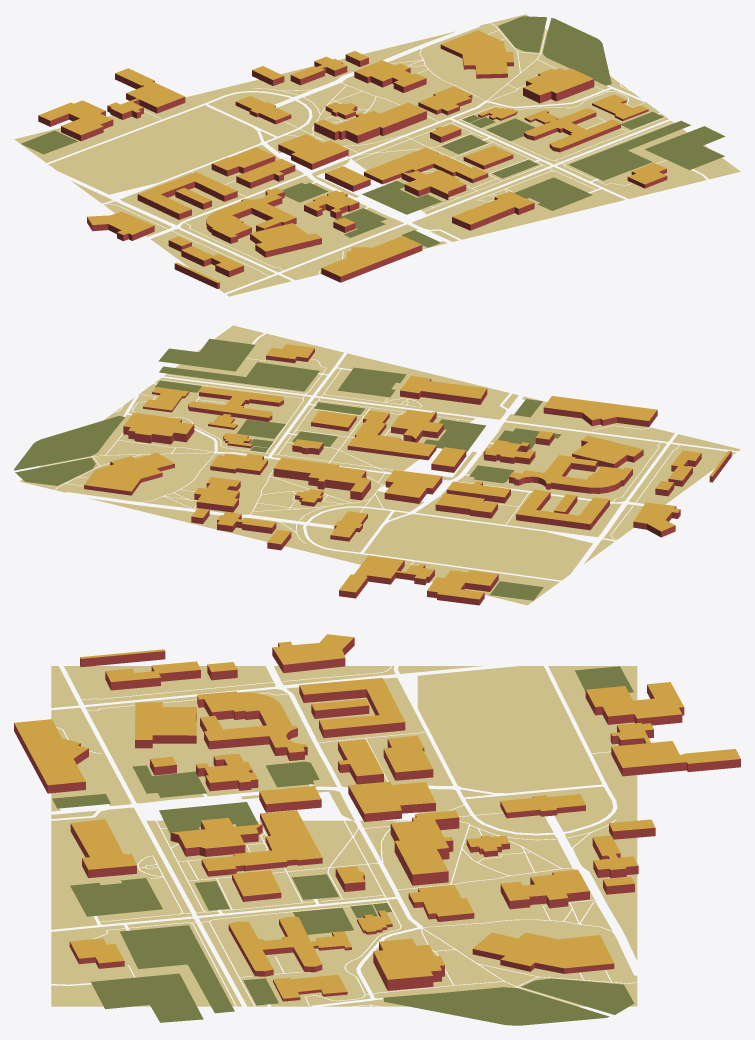
Rendered from nmsu_trimmed_osm.dae.
3 renders of one model, top to bottom at view 1: azimuth 30°, elevation 25°; view 2: azimuth 150°, elevation 25°; view 3: azimuth 270°, elevation 25°, orthographic. The views are drawn at different scales.
Visible parts, largest first — view 1: SurfaceArea821, SurfaceArea820, SurfaceArea819, SurfaceArea822, SurfaceArea823, SurfaceParking809, Building_Branson_Hall_Library, Building_Milton_Hall, Building_Clinton_P_Anderson_Hall, SurfaceParking806, Building_Chemistry_and_Biochemistry_Building, Building_Science_Hall (+31 smaller); view 2: SurfaceArea821, SurfaceArea820, SurfaceArea819, SurfaceArea822, SurfaceParking809, SurfaceArea823, Building_Milton_Hall, Building_Branson_Hall_Library, Building_Clinton_P_Anderson_Hall, SurfaceParking806, Building_Science_Hall, Building_Chemistry_and_Biochemistry_Building (+31 smaller); view 3: SurfaceArea821, SurfaceArea820, SurfaceArea819, SurfaceArea822, SurfaceArea823, SurfaceParking809, Building_Milton_Hall, Building_Chemistry_and_Biochemistry_Building, SurfaceParking806, Building_Science_Hall, Building_Branson_Hall_Library, Building_Jett_Hall (+37 smaller).
Boxes of the visible parts, <box> form: SurfaceArea821: <box>331,94,693,239</box>; SurfaceArea820: <box>14,82,326,198</box>; SurfaceArea819: <box>95,154,459,296</box>; SurfaceArea822: <box>247,26,542,141</box>; SurfaceArea823: <box>574,76,740,182</box>; SurfaceParking809: <box>542,18,611,85</box>; Building_Branson_Hall_Library: <box>314,102,426,143</box>; Building_Milton_Hall: <box>440,30,513,78</box>; Building_Clinton_P_Anderson_Hall: <box>321,236,422,282</box>; SurfaceParking806: <box>568,120,690,180</box>; Building_Chemistry_and_Biochemistry_Building: <box>107,68,185,119</box>; Building_Science_Hall: <box>364,147,488,184</box>; SurfaceArea821: <box>170,336,509,490</box>; SurfaceArea820: <box>297,491,606,605</box>; SurfaceArea819: <box>429,393,740,546</box>; SurfaceArea822: <box>67,441,376,548</box>; SurfaceParking809: <box>14,416,124,470</box>; SurfaceArea823: <box>104,325,278,428</box>; Building_Milton_Hall: <box>84,452,174,495</box>; Building_Branson_Hall_Library: <box>273,457,370,500</box>; Building_Clinton_P_Anderson_Hall: <box>543,396,657,426</box>; SurfaceParking806: <box>159,362,319,391</box>; Building_Science_Hall: <box>347,410,436,460</box>; Building_Chemistry_and_Biochemistry_Building: <box>339,555,434,598</box>; SurfaceArea821: <box>51,820,417,975</box>; SurfaceArea820: <box>417,666,637,820</box>; SurfaceArea819: <box>51,666,417,820</box>; SurfaceArea822: <box>417,820,637,975</box>; SurfaceArea823: <box>51,975,417,1006</box>; SurfaceParking809: <box>383,987,609,1025</box>; Building_Milton_Hall: <box>472,932,614,973</box>; Building_Chemistry_and_Biochemistry_Building: <box>610,722,740,776</box>; SurfaceParking806: <box>120,925,234,1013</box>; Building_Science_Hall: <box>201,810,322,876</box>; Building_Branson_Hall_Library: <box>390,810,459,885</box>; Building_Jett_Hall: <box>299,678,405,738</box>.
Size of the model in its own units: 743 by 596 by 10.
